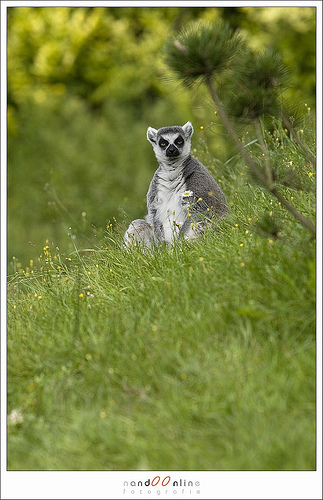cat: (121, 118, 236, 260)
